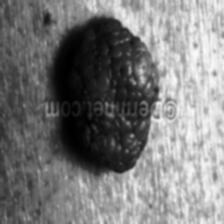Potentially Malignant Skin Tumors: (67, 17, 159, 175)
